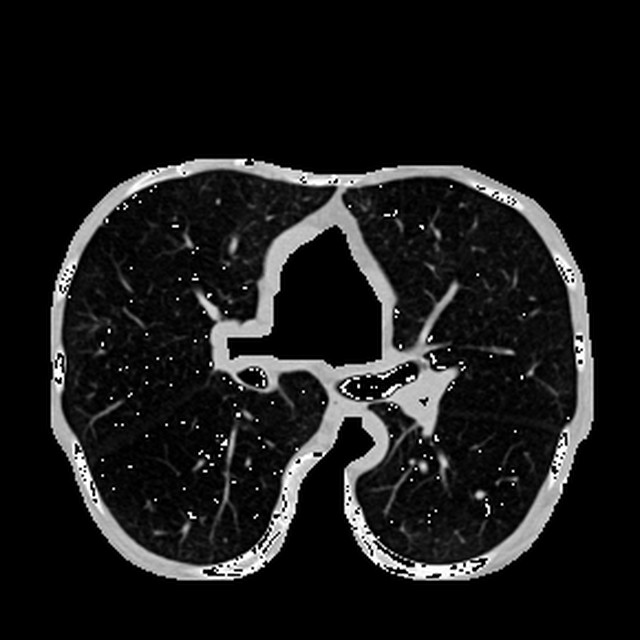PN: (472, 488, 486, 501)
